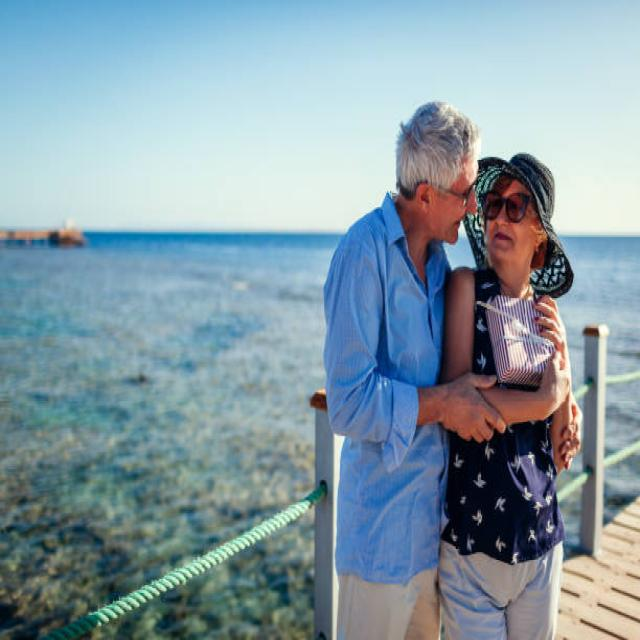Real human 2: (320, 91, 586, 640)
